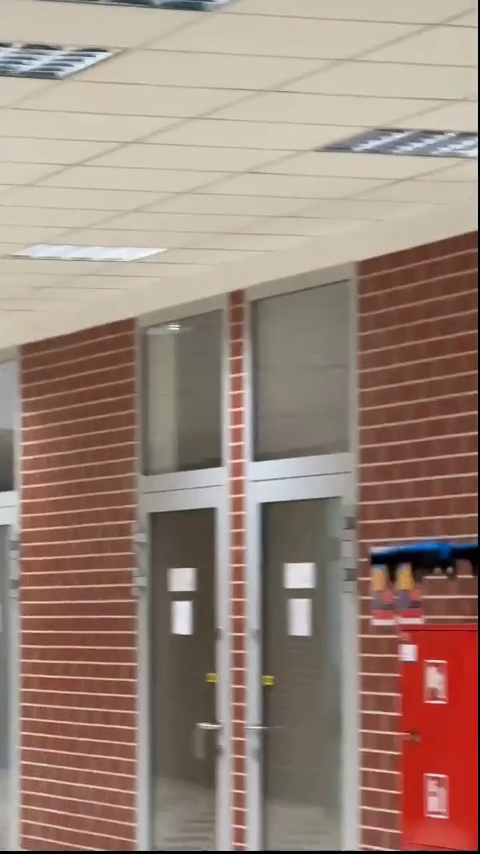drone: (367, 539, 480, 577)
